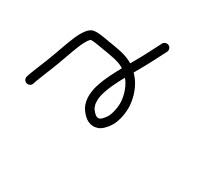t: (112, 31, 178, 93)
